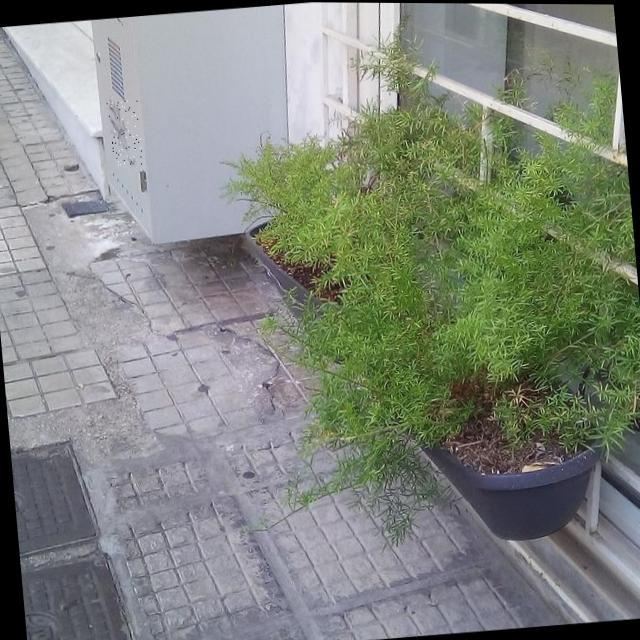-: (106, 99, 143, 167)
